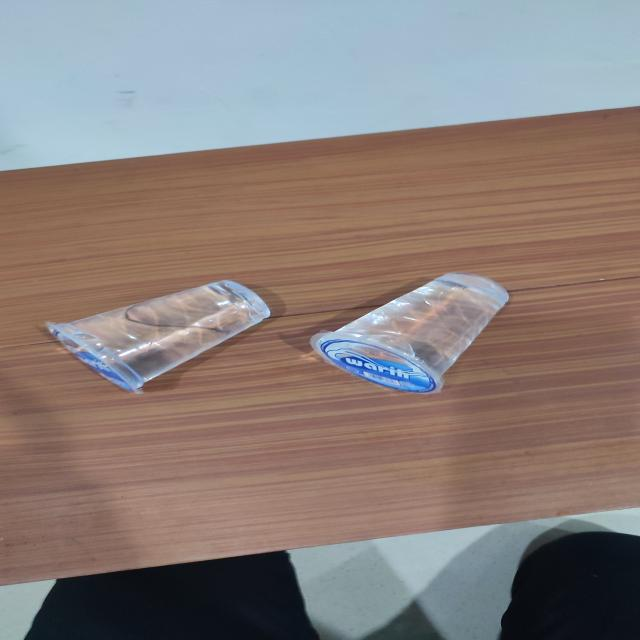air gelas: (293, 265, 533, 399), (31, 279, 285, 400)
